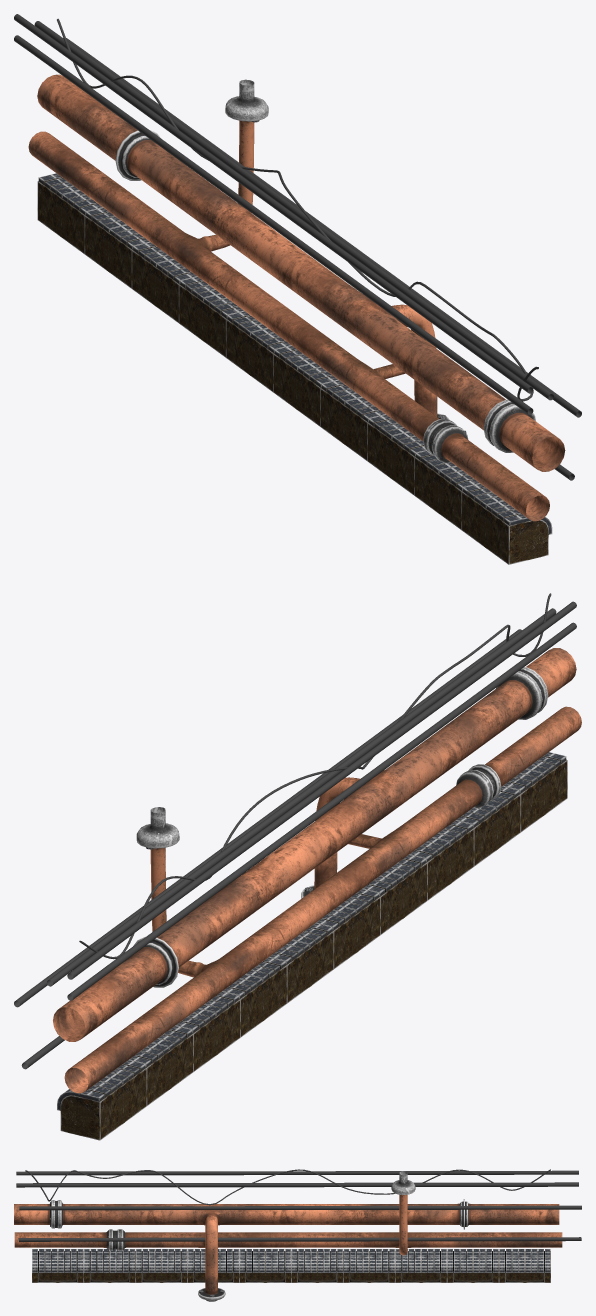
3 views of the same model, one above another, from view 1: azimuth 30°, elevation 25°; view 2: azimuth 150°, elevation 25°; view 3: azimuth 270°, elevation 25° (orthographic). The views are drawn at different scales.
Visible parts, largest first — view 1: tubos_canos_6, MAQUINA1_5, BezierCurve.001_1, BezierCurve.002_2, BezierCurve.004_4, BezierCurve.003_3, BezierCurve_0; view 2: tubos_canos_6, MAQUINA1_5, BezierCurve.001_1, BezierCurve.002_2, BezierCurve.004_4, BezierCurve.003_3, BezierCurve_0; view 3: tubos_canos_6, MAQUINA1_5, BezierCurve.005_8, BezierCurve.004_4, BezierCurve.003_3, BezierCurve.001_1, BezierCurve_0, BezierCurve.002_2.
Boxes of the visible parts, x1,y1,x2,y2 form: tubos_canos_6: (28, 74, 565, 521); MAQUINA1_5: (37, 173, 552, 564); BezierCurve.001_1: (14, 14, 533, 393); BezierCurve.002_2: (14, 35, 533, 414); BezierCurve.004_4: (34, 21, 553, 400); BezierCurve.003_3: (66, 38, 581, 417); BezierCurve_0: (57, 18, 538, 401); tubos_canos_6: (53, 648, 581, 1093); MAQUINA1_5: (57, 752, 567, 1140); BezierCurve.001_1: (67, 601, 576, 979); BezierCurve.002_2: (67, 622, 576, 1000); BezierCurve.004_4: (47, 608, 556, 986); BezierCurve.003_3: (14, 629, 521, 1007); BezierCurve_0: (79, 593, 551, 959); tubos_canos_6: (14, 1171, 562, 1301); MAQUINA1_5: (32, 1249, 550, 1282); BezierCurve.005_8: (18, 1237, 581, 1241); BezierCurve.004_4: (16, 1182, 578, 1187); BezierCurve.003_3: (19, 1205, 581, 1210); BezierCurve.001_1: (16, 1170, 578, 1175); BezierCurve_0: (25, 1169, 550, 1205); BezierCurve.002_2: (16, 1182, 578, 1183).
Size of the model in its own units: 5.79 by 11.92 by 48.79.
4 materials, 3 textured.
